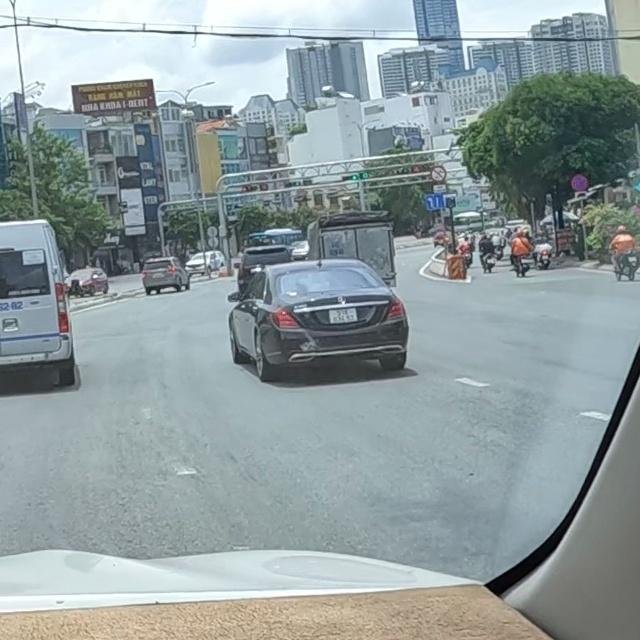license-plate: (328, 308, 357, 323)
